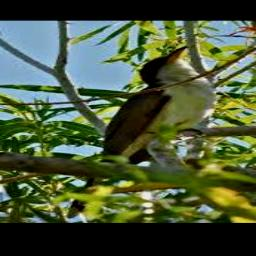Cuckoo: (65, 47, 216, 218)
